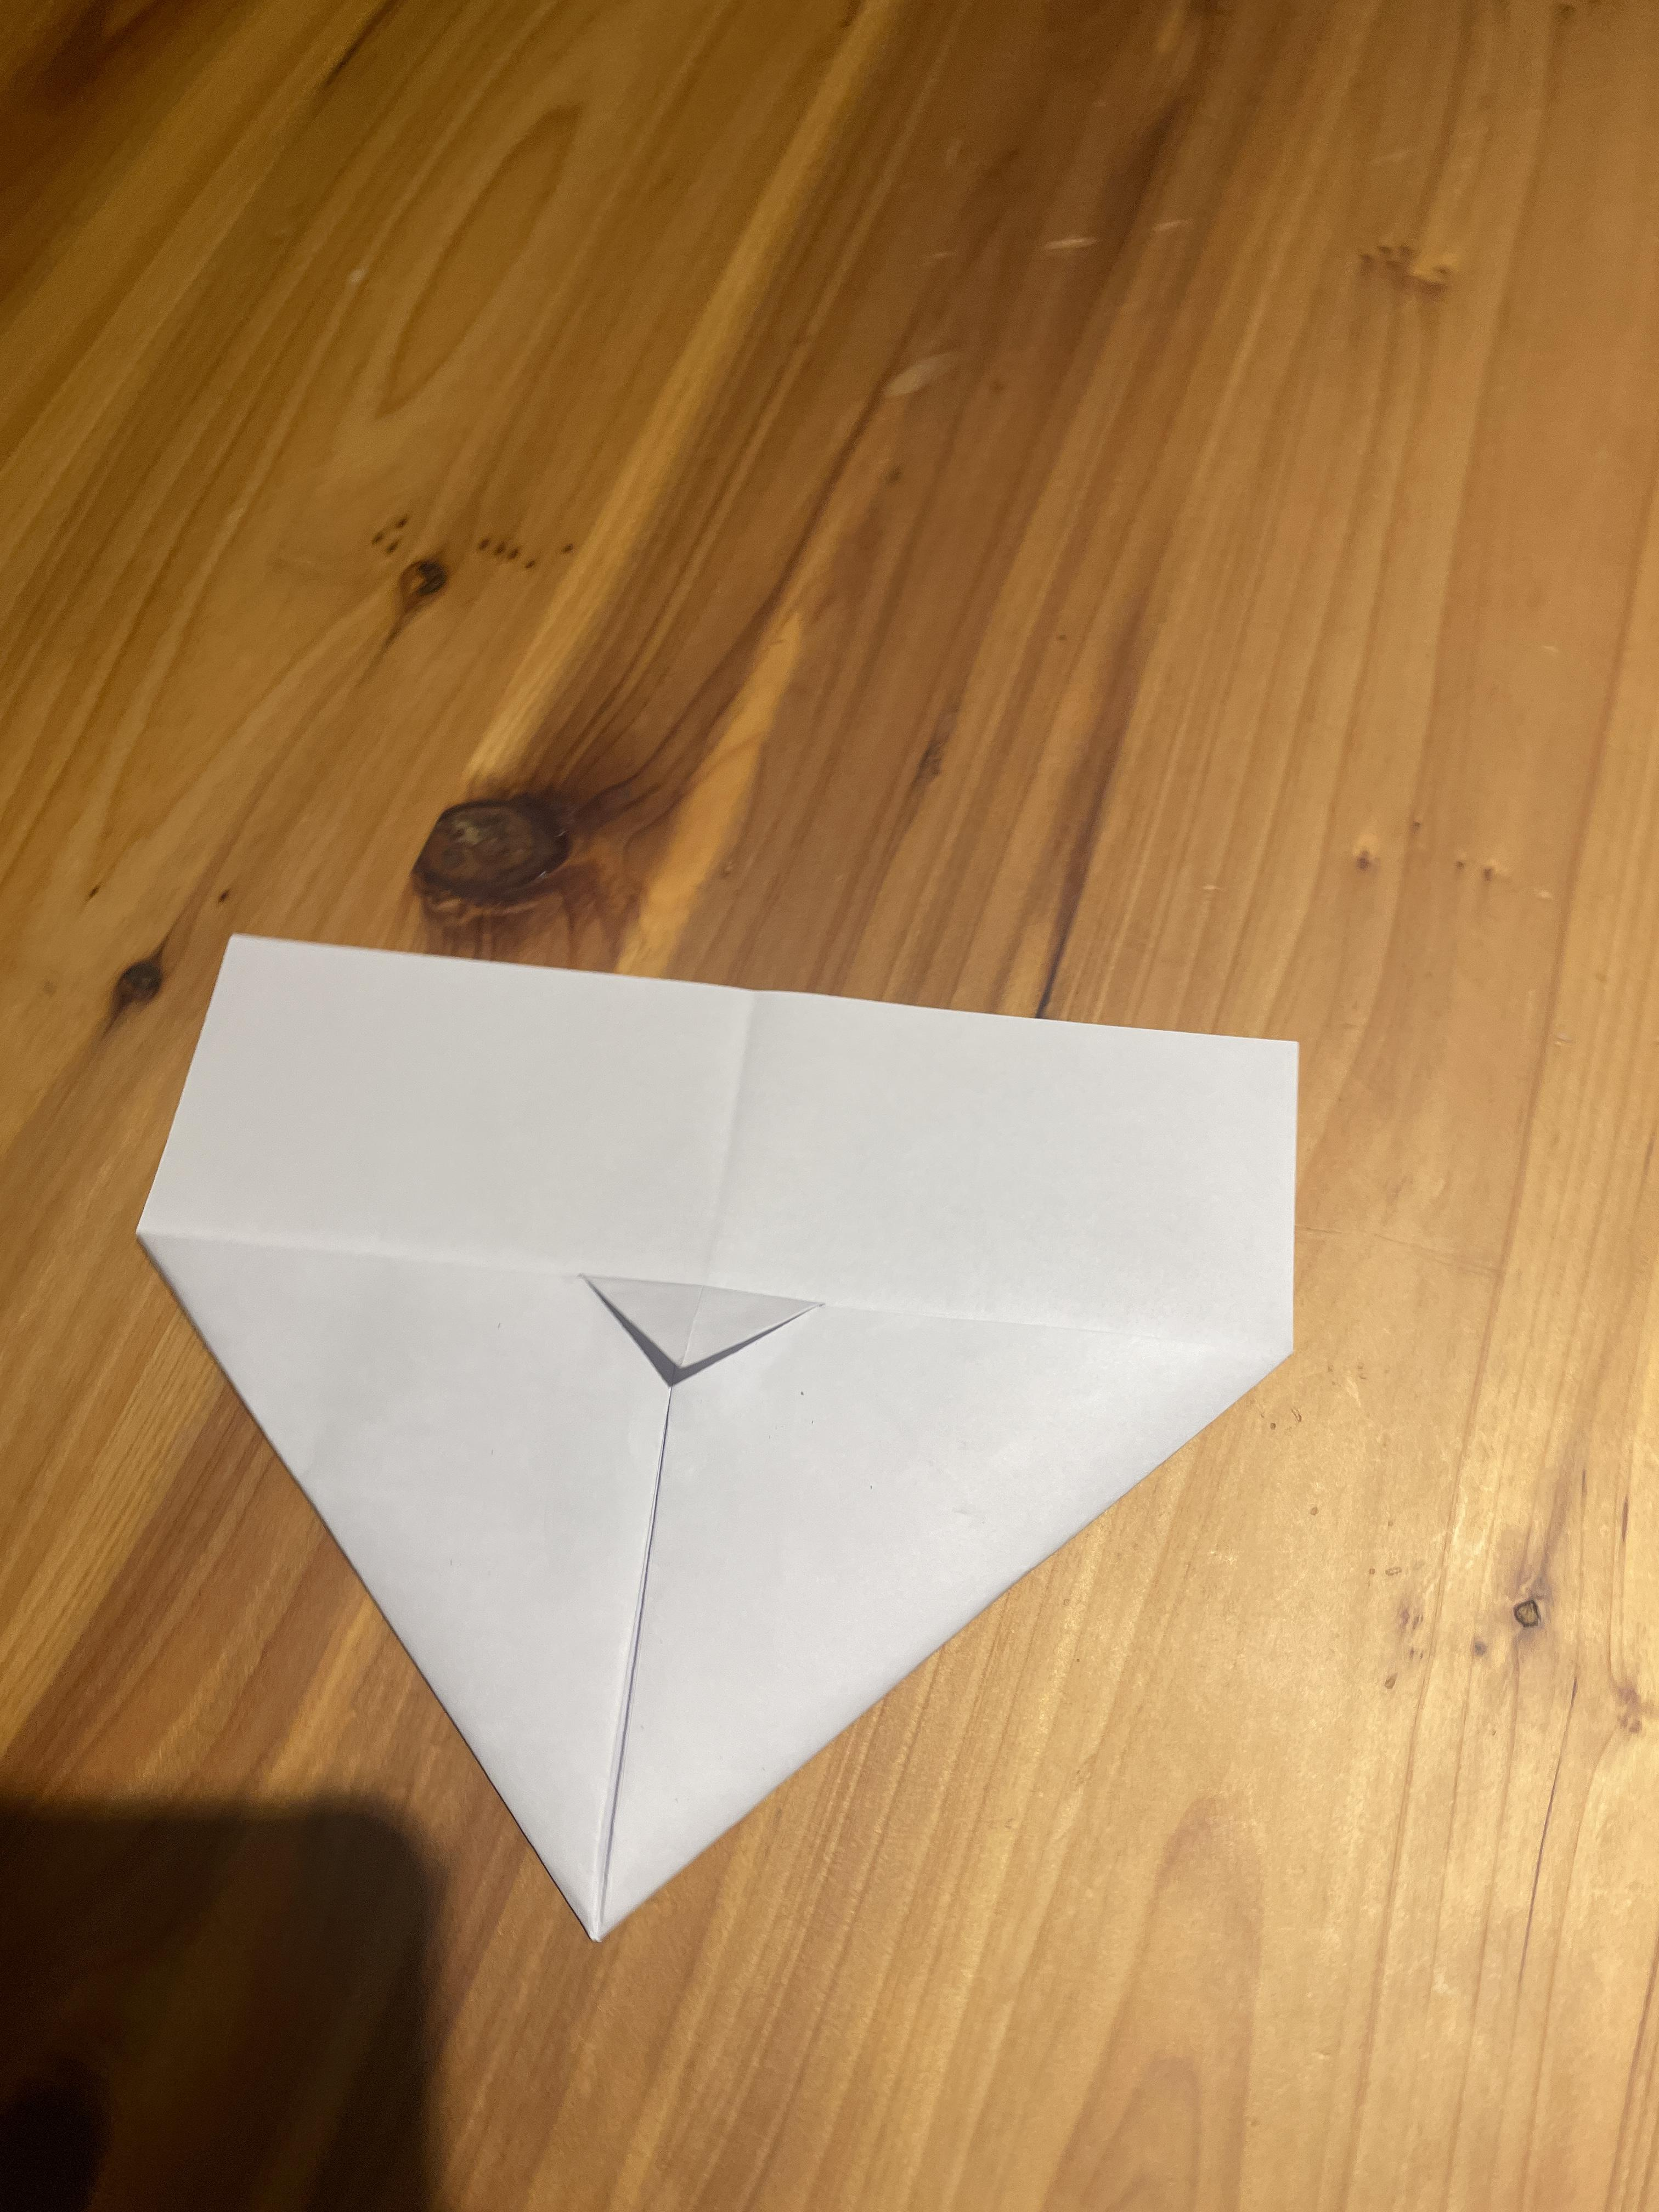shape_2: (117, 698, 1377, 2029)
